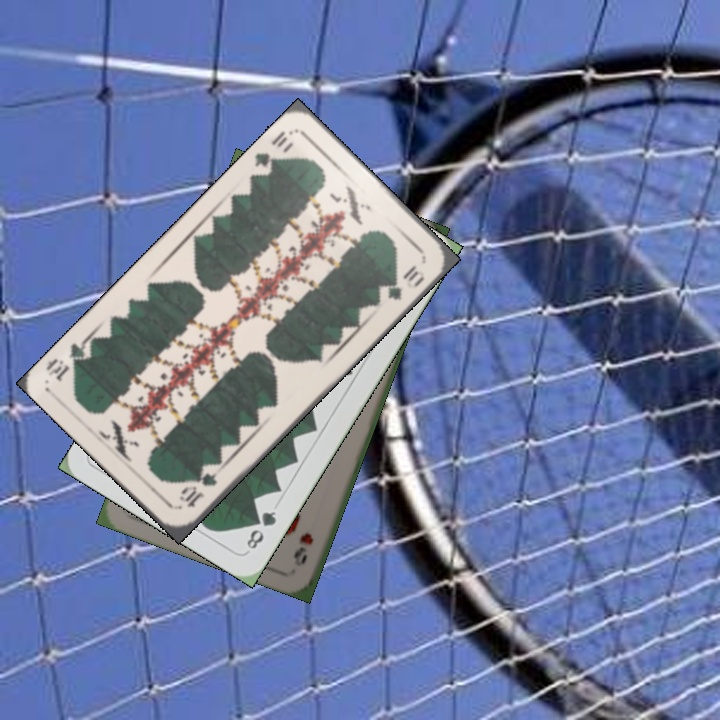G10: (250, 126, 295, 179), (175, 464, 224, 510)
G8: (242, 507, 279, 552)
H9: (289, 528, 316, 569)
